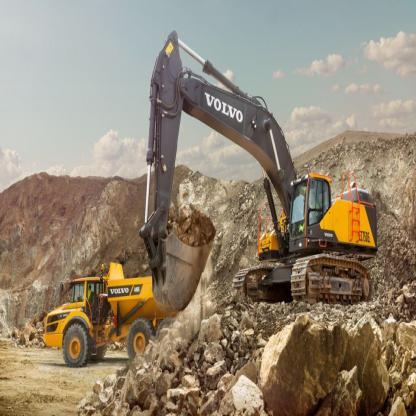dump_truck: (41, 250, 188, 384)
excavator: (139, 23, 393, 357)
